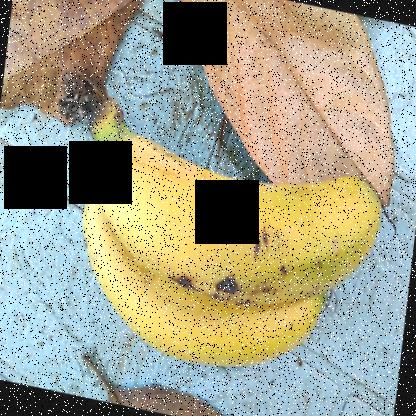freshripe: (130, 310, 332, 384)
ripe: (93, 115, 387, 311)
